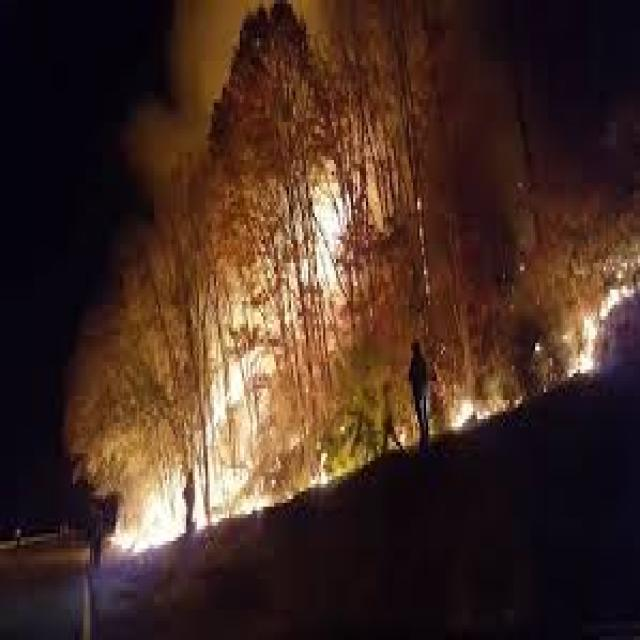Fire: (110, 466, 278, 554), (564, 294, 634, 383), (442, 391, 489, 428)
Smoke: (114, 0, 233, 192)
